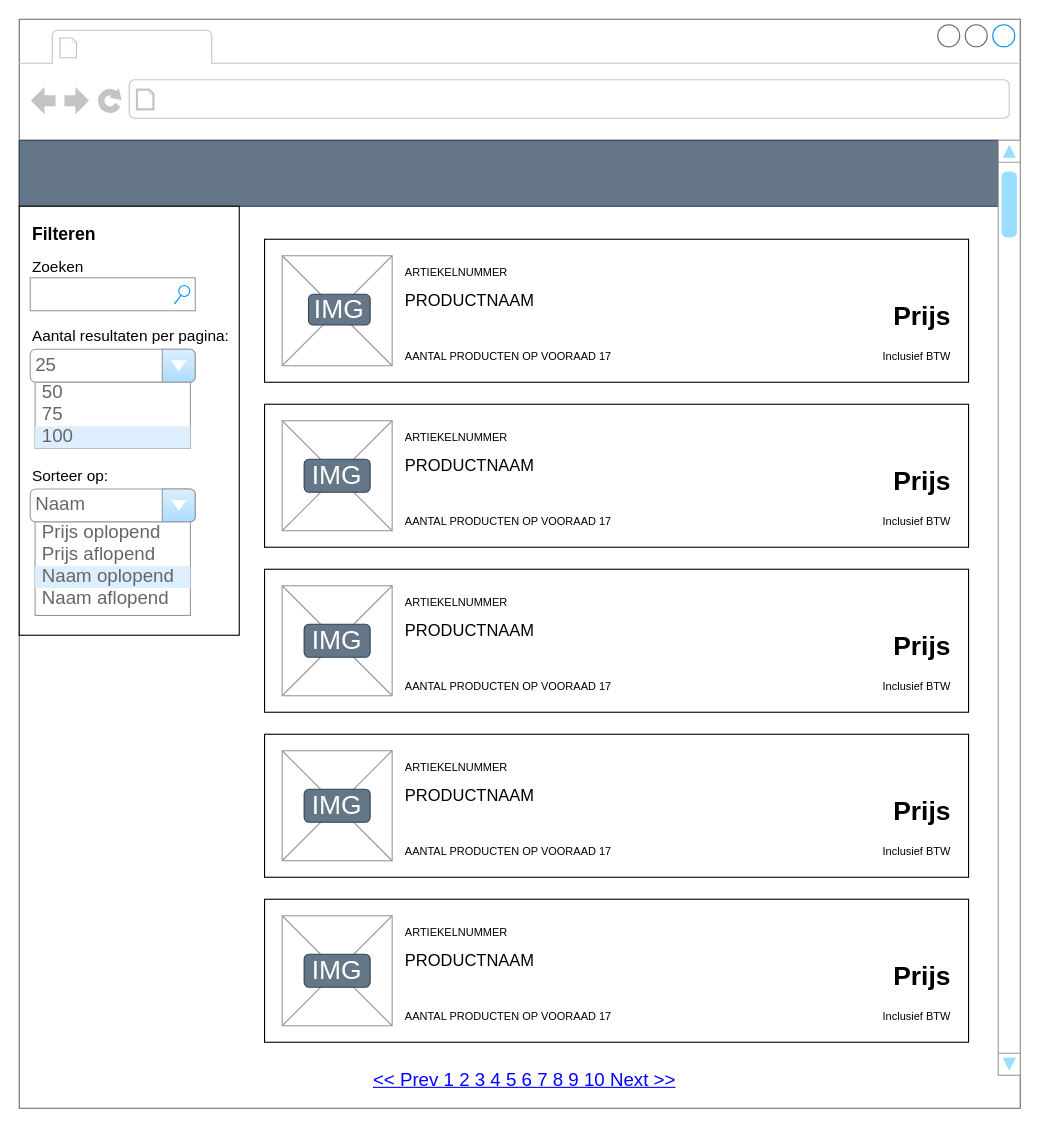
Some shapes in this 1041 by 1128 pixel diagram are drawn without their labels. Here are the shapes that lost their labels. From the top down, the centre of each, then its label:
At (145,46): "browse".
At (299,99): "http://nerdygadgets.test/browse".
At (508,172): "HEADER".
At (112,294): "Search".
